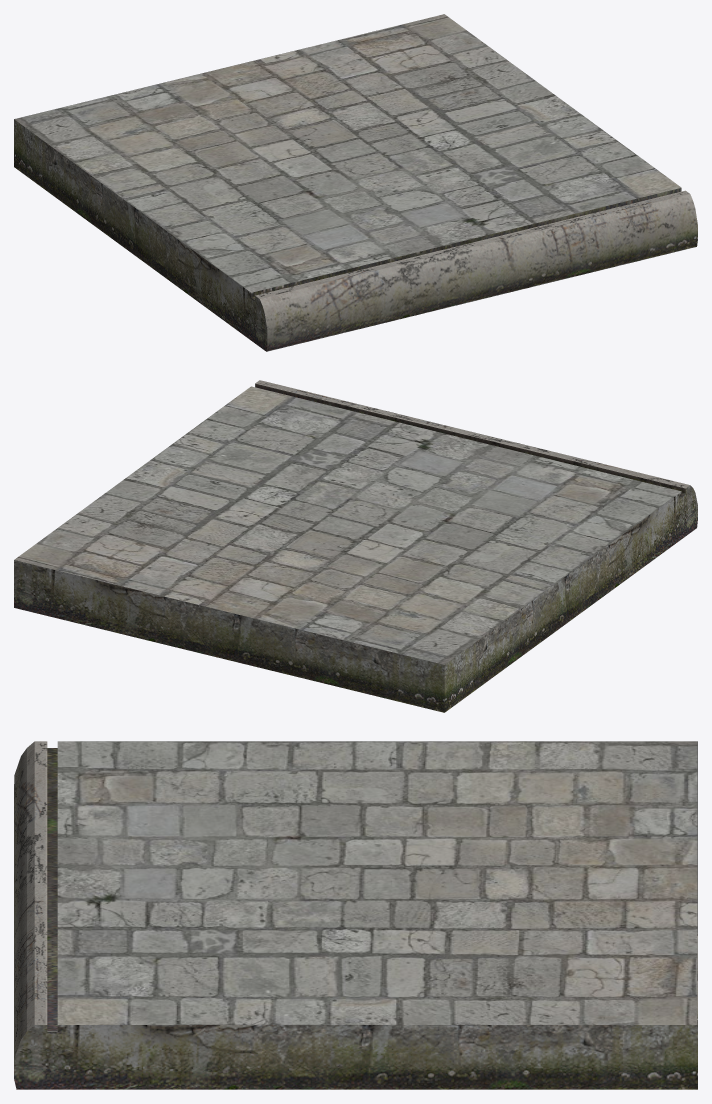
The model's file is PavementPieces02.fbx.
3 renders of one model, top to bottom at view 1: azimuth 30°, elevation 25°; view 2: azimuth 150°, elevation 25°; view 3: azimuth 270°, elevation 25°, orthographic. The views are drawn at different scales.
Visible parts, largest first — view 1: PavementPieces02; view 2: PavementPieces02; view 3: PavementPieces02.
Part boxes in pixels (x1,y1,x2,y2): PavementPieces02: (14,14,697,351); PavementPieces02: (14,380,697,712); PavementPieces02: (14,741,697,1089).
Bounding box in the file's own units: 128 × 13.59 × 130.
